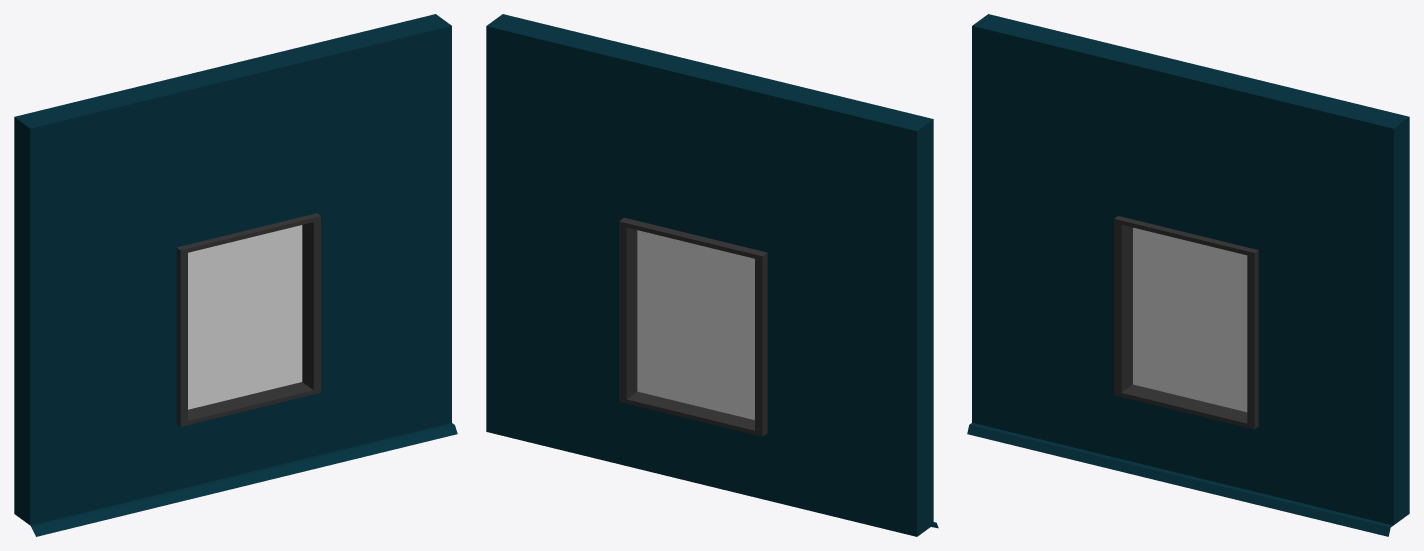
Rendered from wall_with_window.fbx.
The picture shows the model from 3 angles, left to right: view 1: azimuth 30°, elevation 25°; view 2: azimuth 150°, elevation 25°; view 3: azimuth 330°, elevation 25°; orthographic projection. The views are drawn at different scales.
Parts seen in each view (by area): view 1: glass; view 2: glass; view 3: glass.
Part boxes in pixels (x1=…): glass: x1=14, y1=14, x2=457, y2=536; glass: x1=486, y1=14, x2=938, y2=536; glass: x1=967, y1=14, x2=1409, y2=536.
Size of the model in its own units: 3003 by 328 by 2750.
